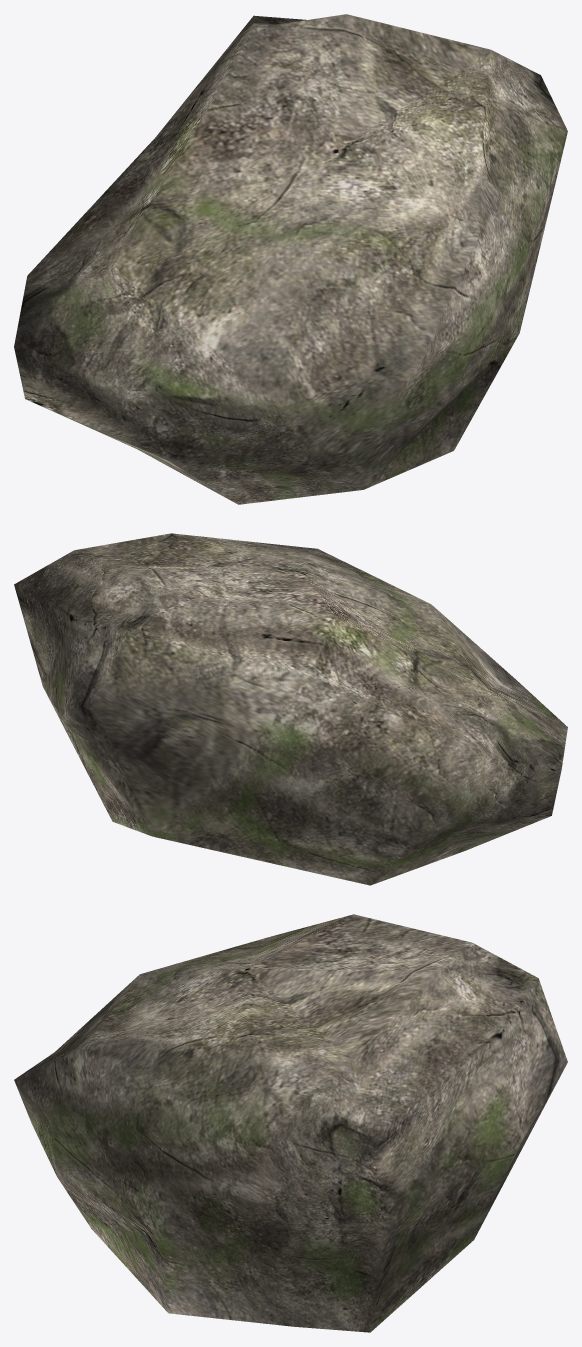
Rendered from rock_1.obj.
The picture shows the model from 3 angles, top to bottom: view 1: azimuth 30°, elevation 25°; view 2: azimuth 150°, elevation 25°; view 3: azimuth 270°, elevation 25°; orthographic projection. The views are drawn at different scales.
Visible parts, largest first — view 1: rocks.001; view 2: rocks.001; view 3: rocks.001.
Boxes of the visible parts, x1,y1,x2,y2 form: rocks.001: (14,14,567,504); rocks.001: (14,533,567,885); rocks.001: (14,914,567,1332).
Size of the model in its own units: 1.16 by 0.7021 by 0.9337.
Materials: 1 (1 with a texture image).
